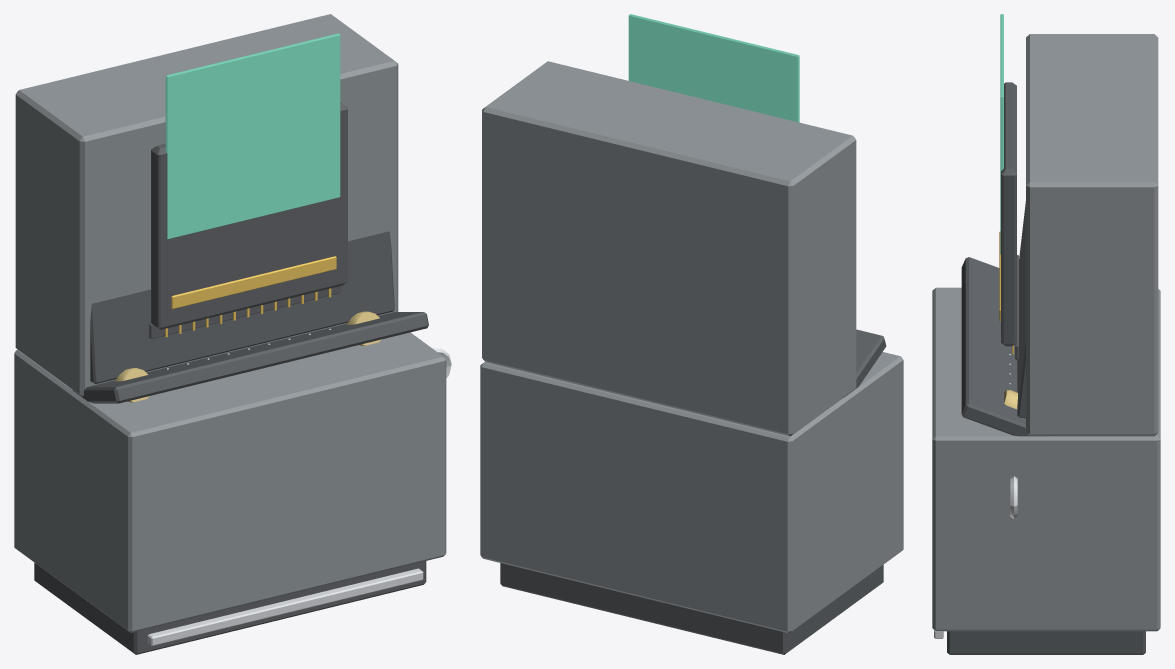
Rendered from submarine-interior-and-control-room-sonar-console-2081dec9__36483.glb.
3 views of the same model, side by side, from view 1: azimuth 30°, elevation 25°; view 2: azimuth 150°, elevation 25°; view 3: azimuth 270°, elevation 25° (orthographic). The views are drawn at different scales.
Parts seen in each view (by area): view 1: sonar-console; view 2: sonar-console; view 3: sonar-console.
Boxes of the visible parts, x1,y1,x2,y2 form: sonar-console: (14, 14, 451, 654); sonar-console: (480, 14, 903, 654); sonar-console: (932, 14, 1160, 654).
Bounding box in the file's own units: 1.26 × 1.8 × 0.7.
